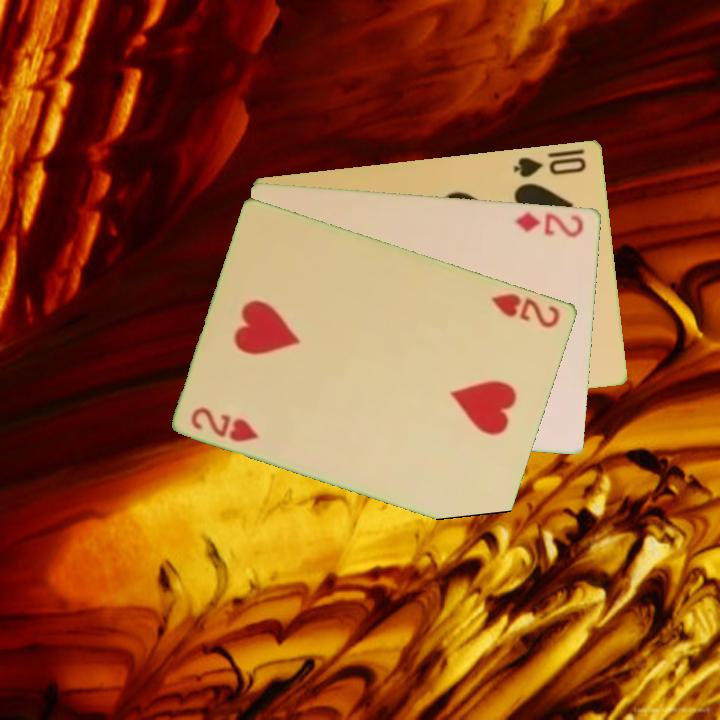10s: (510, 153, 590, 180)
2d: (511, 208, 587, 240)
2h: (488, 289, 564, 331), (187, 403, 262, 445)
